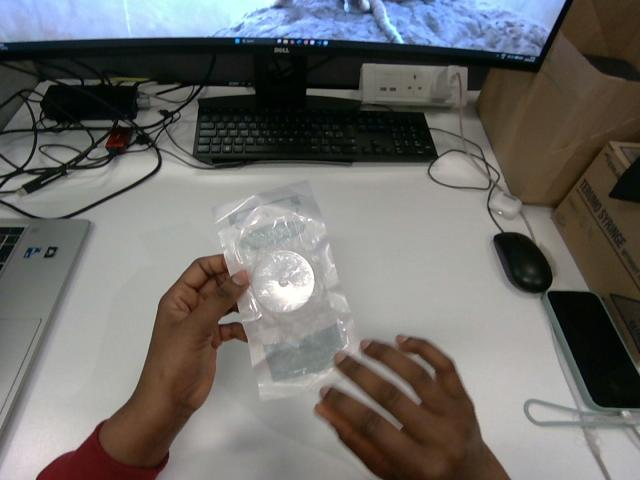gallipot: (214, 182, 355, 398)
